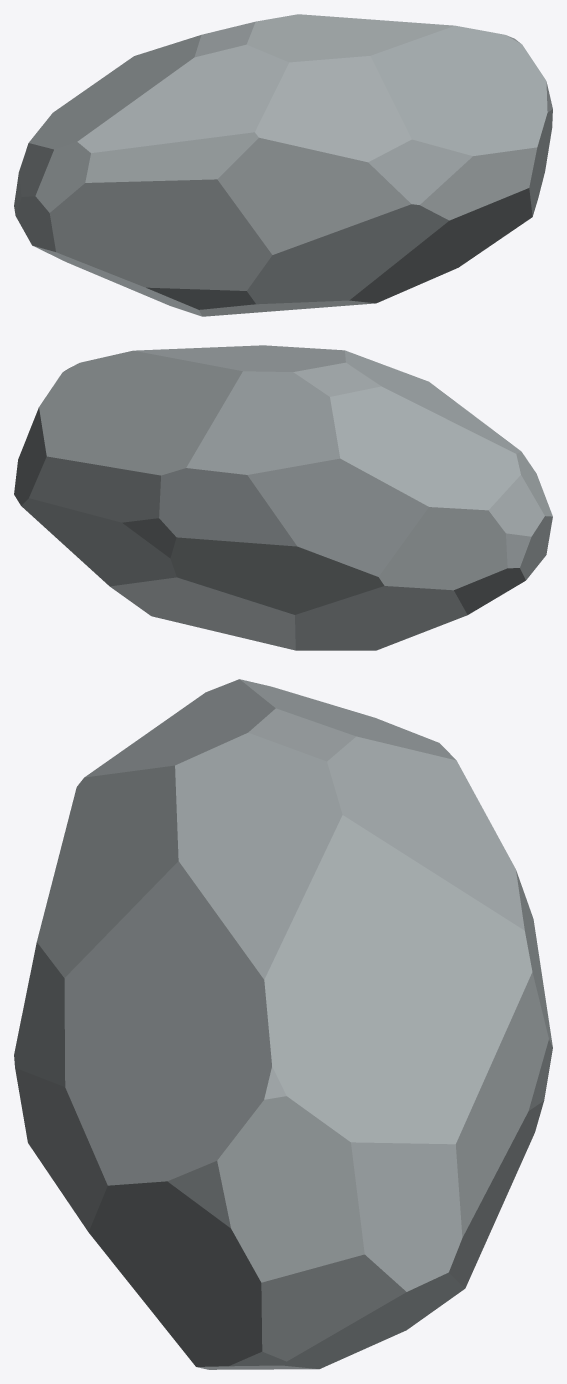
The model's file is NHP_Rock_Boulder_A3_01.fbx.
The picture shows the model from 3 angles, top to bottom: view 1: azimuth 30°, elevation 25°; view 2: azimuth 150°, elevation 25°; view 3: azimuth 270°, elevation 25°; orthographic projection. The views are drawn at different scales.
Visible parts, largest first — view 1: NHP_Rock_Boulder_A3_01; view 2: NHP_Rock_Boulder_A3_01; view 3: NHP_Rock_Boulder_A3_01.
Part boxes in pixels (<box>): NHP_Rock_Boulder_A3_01: <box>14,14,552,316</box>; NHP_Rock_Boulder_A3_01: <box>14,345,552,650</box>; NHP_Rock_Boulder_A3_01: <box>14,679,552,1369</box>.
Bounding box in the file's own units: 3.68 × 1.8 × 1.89.
